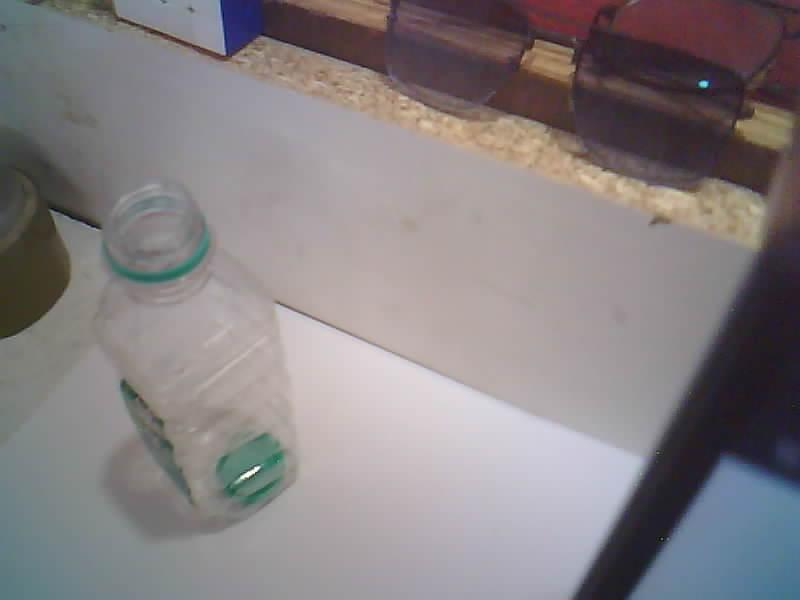non-biodegradable: (93, 181, 298, 526)
